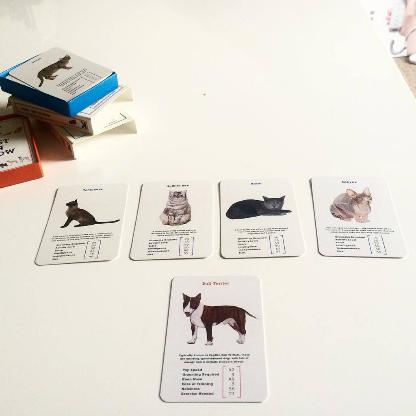Cat: (225, 196, 289, 219), (155, 187, 188, 225), (36, 54, 72, 86)
